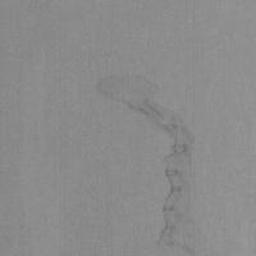Water spot: (95, 70, 210, 256)
